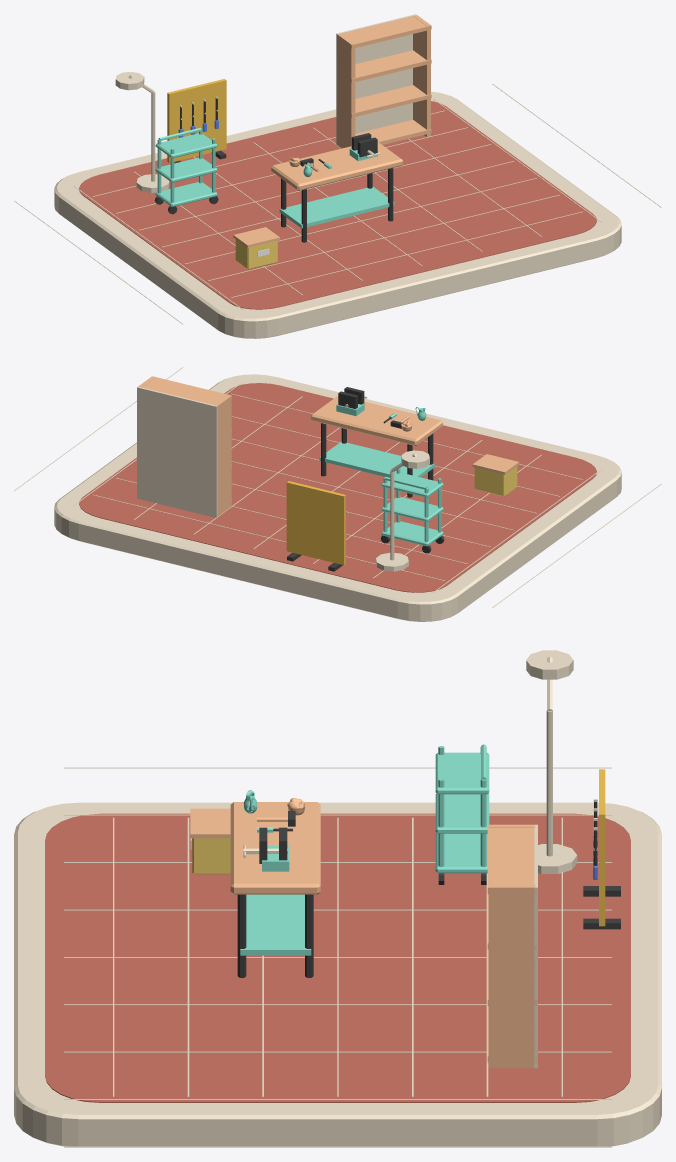
The picture shows the model from 3 angles, top to bottom: view 1: azimuth 30°, elevation 25°; view 2: azimuth 150°, elevation 25°; view 3: azimuth 270°, elevation 25°; orthographic projection. The views are drawn at different scales.
Parts seen in each view (by area): view 1: COM-02 Floor Surface, COM-01 Rounded Base Direct, Back, Panel, Worktop, Lower shelf, Side, Side.001, Shelf.003, Shelf.001, Shelf.002, Shelf (+5 smaller); view 2: COM-02 Floor Surface, COM-01 Rounded Base Direct, Back, Panel, Worktop, Lower shelf, Side, Shelf.003, Box, Tray, Tray.001, Tray.002 (+4 smaller); view 3: COM-02 Floor Surface, COM-01 Rounded Base Direct, Side.001, Worktop, Lower shelf, Shelf.003, Tray.002, Tray.001, Tray, Box, Lid, Lamp head (+12 smaller).
Boxes of the visible parts, x1=… form: COM-02 Floor Surface: x1=79, y1=101, x2=596, y2=309; COM-01 Rounded Base Direct: x1=54, y1=91, x2=621, y2=338; Back: x1=336, y1=14, x2=416, y2=144; Panel: x1=167, y1=79, x2=226, y2=162; Worktop: x1=271, y1=142, x2=403, y2=190; Lower shelf: x1=279, y1=186, x2=394, y2=228; Side: x1=336, y1=33, x2=355, y2=148; Side.001: x1=413, y1=15, x2=430, y2=136; Shelf.003: x1=342, y1=16, x2=431, y2=48; Shelf.001: x1=351, y1=85, x2=431, y2=117; Shelf.002: x1=351, y1=50, x2=431, y2=82; Shelf: x1=355, y1=120, x2=431, y2=144; COM-02 Floor Surface: x1=79, y1=383, x2=596, y2=592; COM-01 Rounded Base Direct: x1=54, y1=374, x2=621, y2=621; Back: x1=137, y1=386, x2=217, y2=517; Panel: x1=286, y1=481, x2=345, y2=564; Worktop: x1=311, y1=396, x2=442, y2=445; Lower shelf: x1=319, y1=441, x2=434, y2=477; Side: x1=214, y1=395, x2=231, y2=516; Shelf.003: x1=142, y1=376, x2=231, y2=409; Box: x1=474, y1=466, x2=517, y2=496; Tray: x1=381, y1=521, x2=443, y2=546; Tray.001: x1=381, y1=497, x2=443, y2=521; Tray.002: x1=381, y1=472, x2=443, y2=497; COM-02 Floor Surface: x1=45, y1=813, x2=630, y2=1102; COM-01 Rounded Base Direct: x1=14, y1=802, x2=661, y2=1146; Side.001: x1=488, y1=884, x2=535, y2=1068; Worktop: x1=230, y1=802, x2=320, y2=894; Lower shelf: x1=240, y1=894, x2=311, y2=955; Shelf.003: x1=487, y1=825, x2=537, y2=894; Tray.002: x1=435, y1=752, x2=489, y2=794; Tray.001: x1=435, y1=793, x2=489, y2=833; Tray: x1=435, y1=833, x2=487, y2=873; Box: x1=192, y1=838, x2=230, y2=874; Lid: x1=190, y1=808, x2=230, y2=838; Lamp head: x1=526, y1=650, x2=573, y2=679.
Bounding box in the file's own units: 7.21 × 1.96 × 5.2.
1 material, 1 textured.
